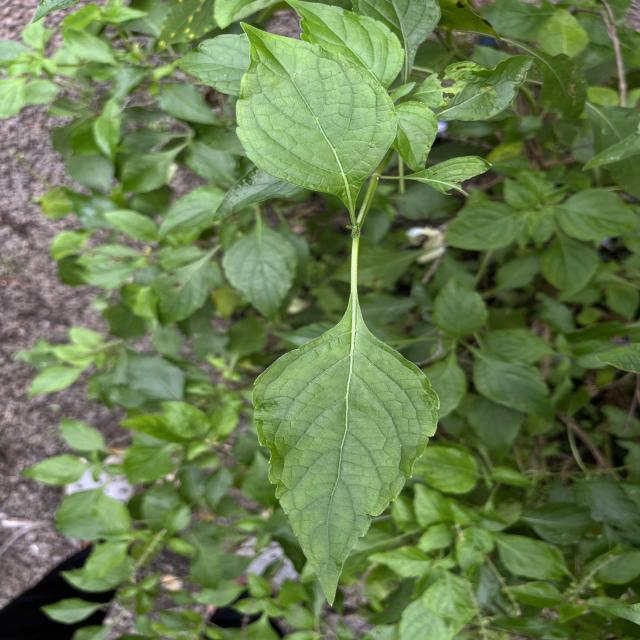Ocimum gratissimum: (248, 274, 444, 610), (232, 18, 400, 214), (283, 0, 408, 94)
